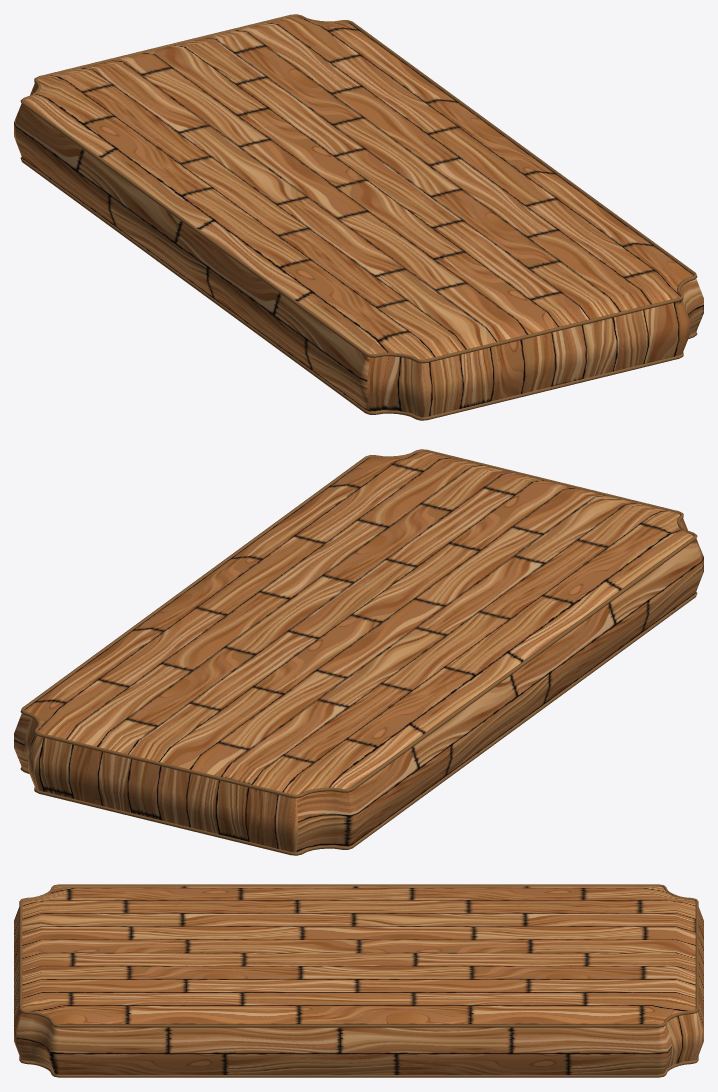
Rendered from SM_FoamFloor_1x2.fbx.
The picture shows the model from 3 angles, top to bottom: view 1: azimuth 30°, elevation 25°; view 2: azimuth 150°, elevation 25°; view 3: azimuth 270°, elevation 25°; orthographic projection. The views are drawn at different scales.
Parts seen in each view (by area): view 1: SM_SoftFoam_Floor_20cm_1x2; view 2: SM_SoftFoam_Floor_20cm_1x2; view 3: SM_SoftFoam_Floor_20cm_1x2.
Part boxes in pixels (left/top/right/bottom): SM_SoftFoam_Floor_20cm_1x2: left=14, top=14, right=703, bottom=420; SM_SoftFoam_Floor_20cm_1x2: left=14, top=449, right=703, bottom=855; SM_SoftFoam_Floor_20cm_1x2: left=14, top=884, right=703, bottom=1077.
Size of the model in its own units: 100 by 20 by 200.
